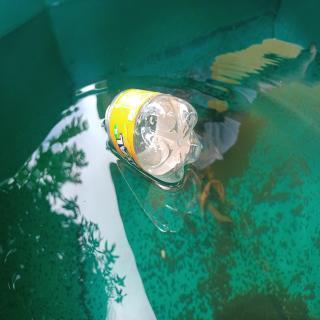bottle: (102, 84, 203, 188)
